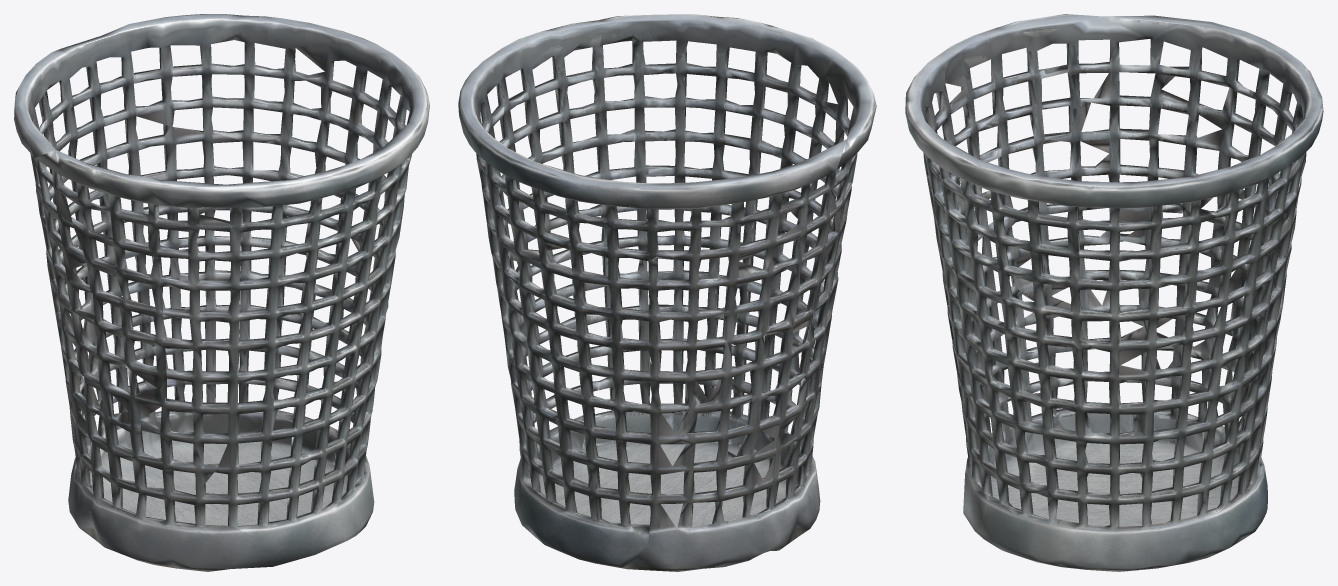
File: VAR_Computer_RecycleBinIcon.fbx
3 renders of one model, left to right at view 1: azimuth 30°, elevation 25°; view 2: azimuth 150°, elevation 25°; view 3: azimuth 270°, elevation 25°, orthographic.
Parts seen in each view (by area): view 1: texture_mapping; view 2: texture_mapping; view 3: texture_mapping.
Boxes of the visible parts, left/top/right/bottom form: texture_mapping: left=14, top=14, right=429, bottom=571; texture_mapping: left=458, top=14, right=876, bottom=571; texture_mapping: left=905, top=14, right=1323, bottom=571.
Bounding box in the file's own units: 0.9183 × 0.9215 × 0.9989.
Materials: 1 (1 with a texture image).
